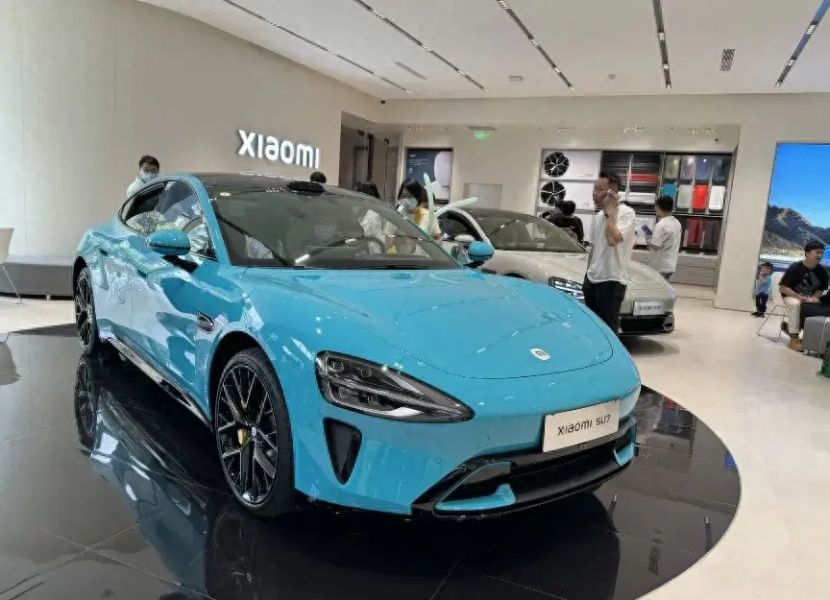su7: (65, 175, 642, 520), (436, 198, 678, 335)
